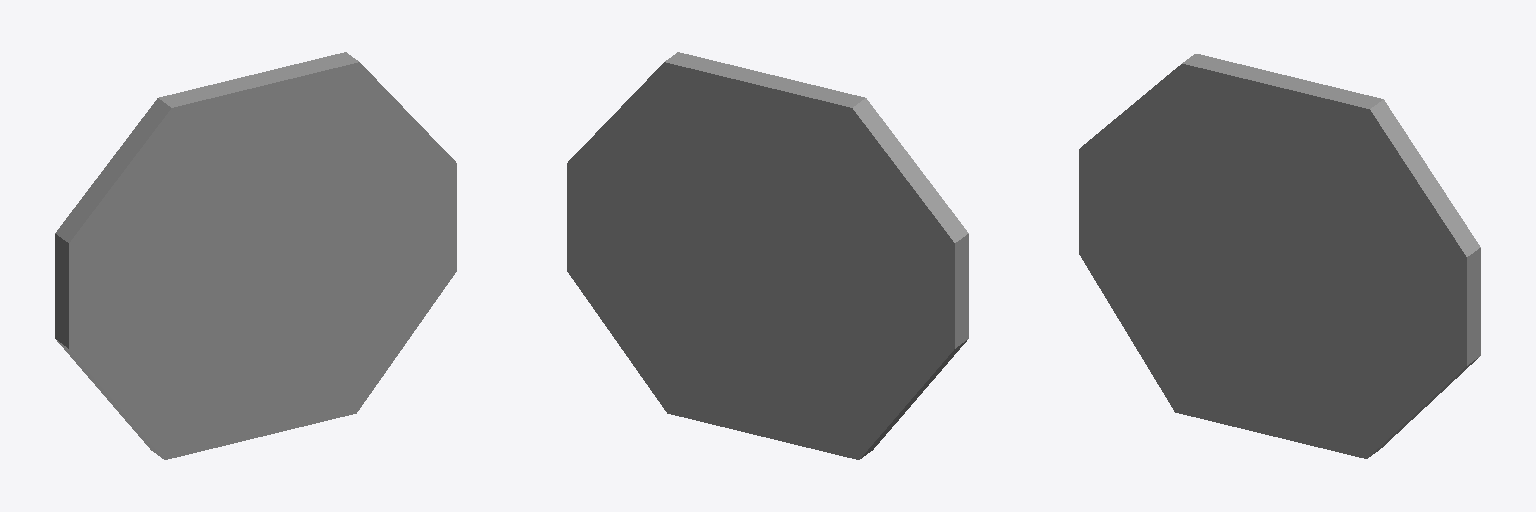
File: coll_nut.obj
3 renders of one model, left to right at view 1: azimuth 30°, elevation 25°; view 2: azimuth 150°, elevation 25°; view 3: azimuth 330°, elevation 25°, orthographic.
Parts seen in each view (by area): view 1: MeshBody1; view 2: MeshBody1; view 3: MeshBody1.
Boxes of the visible parts, <box> form: MeshBody1: <box>55,52,456,459</box>; MeshBody1: <box>567,52,968,459</box>; MeshBody1: <box>1079,54,1480,458</box>.
Size of the model in its own units: 0.8088 by 0.6987 by 0.05.